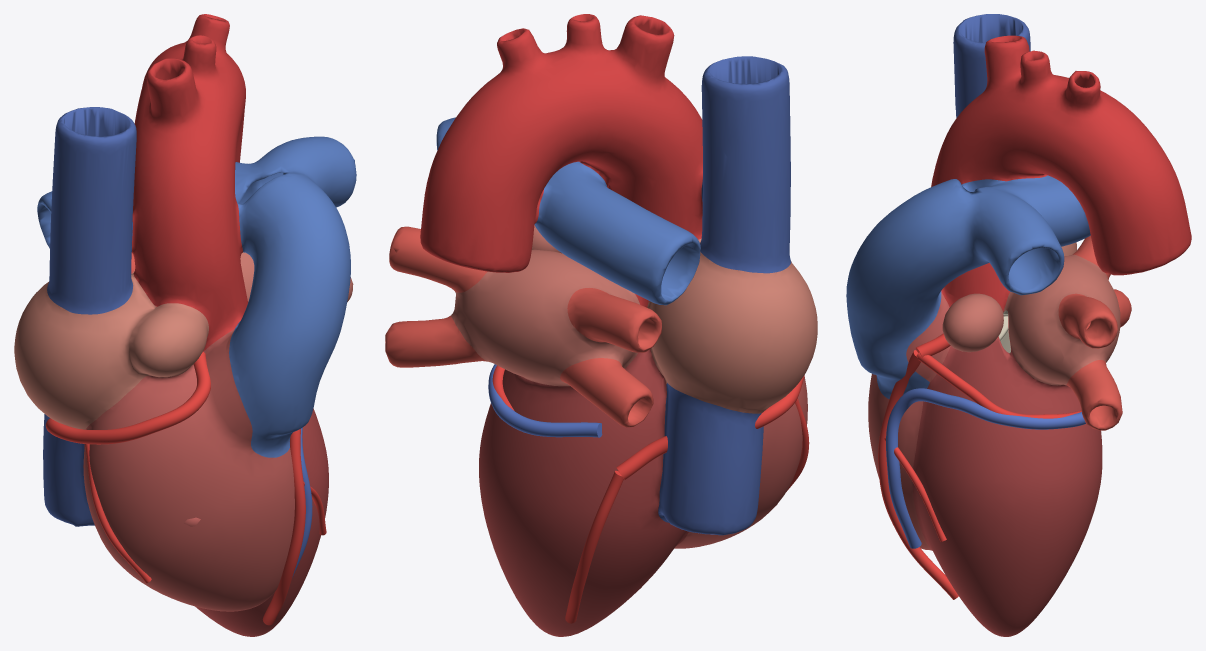
Rendered from heart.glb.
The picture shows the model from 3 angles, left to right: view 1: azimuth 30°, elevation 25°; view 2: azimuth 150°, elevation 25°; view 3: azimuth 270°, elevation 25°; orthographic projection. The views are drawn at different scales.
Parts seen in each view (by area): view 1: Part_right_ventricle, Part_pulmonary_artery, Part_aorta, Part_vena_cava, Part_right_atrium, Part_left_ventricle, Coronary_right_coronary_artery, Coronary_left_anterior_descending_artery, Coronary_marginal_branch, Coronary_great_cardiac_vein, Part_left_atrium; view 2: Part_aorta, Part_left_ventricle, Part_vena_cava, Part_right_atrium, Part_pulmonary_veins, Part_left_atrium, Part_pulmonary_artery, Part_right_ventricle, Coronary_great_cardiac_vein, Coronary_posterior_descending_artery, Coronary_right_coronary_artery; view 3: Part_left_ventricle, Part_aorta, Part_pulmonary_artery, Part_left_atrium, Part_pulmonary_veins, Coronary_great_cardiac_vein, Part_right_ventricle, Part_vena_cava, Coronary_left_anterior_descending_artery, Coronary_circumflex_artery, Coronary_diagonal_branch.
Boxes of the visible parts, x1,y1,x2,y2 form: Part_right_ventricle: (83, 329, 294, 611); Part_pulmonary_artery: (37, 136, 356, 457); Part_aorta: (131, 14, 247, 351); Part_vena_cava: (43, 107, 136, 526); Part_right_atrium: (14, 273, 208, 429); Part_left_ventricle: (195, 302, 328, 636); Coronary_right_coronary_artery: (45, 352, 210, 444); Coronary_left_anterior_descending_artery: (262, 429, 305, 625); Coronary_marginal_branch: (85, 444, 151, 583); Coronary_great_cardiac_vein: (292, 427, 312, 577); Part_left_atrium: (132, 252, 353, 301); Part_aorta: (420, 14, 702, 307); Part_left_ventricle: (479, 349, 688, 636); Part_vena_cava: (658, 56, 791, 535); Part_right_atrium: (647, 238, 817, 413); Part_pulmonary_veins: (385, 226, 661, 427); Part_left_atrium: (451, 225, 639, 386); Part_pulmonary_artery: (436, 117, 700, 305); Part_right_ventricle: (674, 376, 807, 548); Coronary_great_cardiac_vein: (488, 364, 602, 437); Coronary_posterior_descending_artery: (565, 470, 623, 623); Coronary_right_coronary_artery: (616, 375, 804, 479); Part_left_ventricle: (913, 311, 1102, 636); Part_aorta: (931, 35, 1191, 311); Part_pulmonary_artery: (846, 175, 1090, 399); Part_left_atrium: (942, 254, 1120, 385); Part_pulmonary_veins: (1058, 235, 1131, 430); Coronary_great_cardiac_vein: (886, 388, 1085, 548); Part_right_ventricle: (868, 292, 950, 550); Part_vena_cava: (953, 14, 1030, 117); Coronary_left_anterior_descending_artery: (878, 350, 958, 599); Coronary_circumflex_artery: (916, 352, 1081, 418); Coronary_diagonal_branch: (884, 437, 946, 541).
Size of the model in its own units: 0.1024 by 0.1723 by 0.0957.
